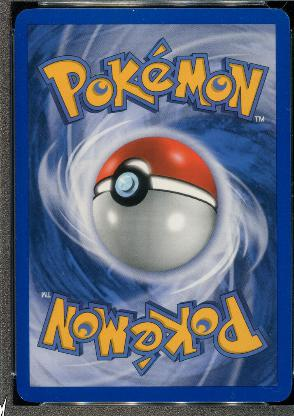Card: (12, 8, 292, 402)
Corner Wear: (282, 10, 289, 22), (17, 394, 24, 400)
Edge Wear: (290, 348, 291, 386)
Scratch: (259, 386, 280, 392), (264, 130, 278, 138), (227, 391, 235, 399), (266, 356, 275, 362), (283, 105, 289, 111), (130, 8, 135, 14), (267, 8, 279, 10), (205, 386, 209, 390), (287, 114, 289, 120)
